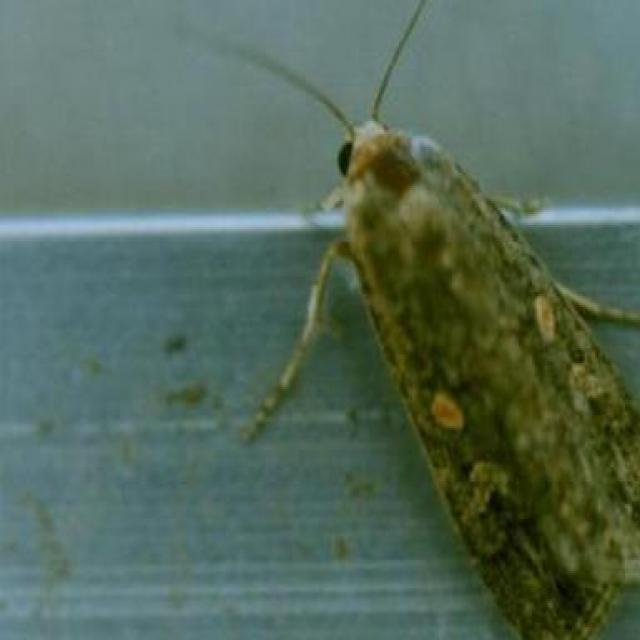BeetArmyWorm-Adult-: (293, 73, 638, 632)
